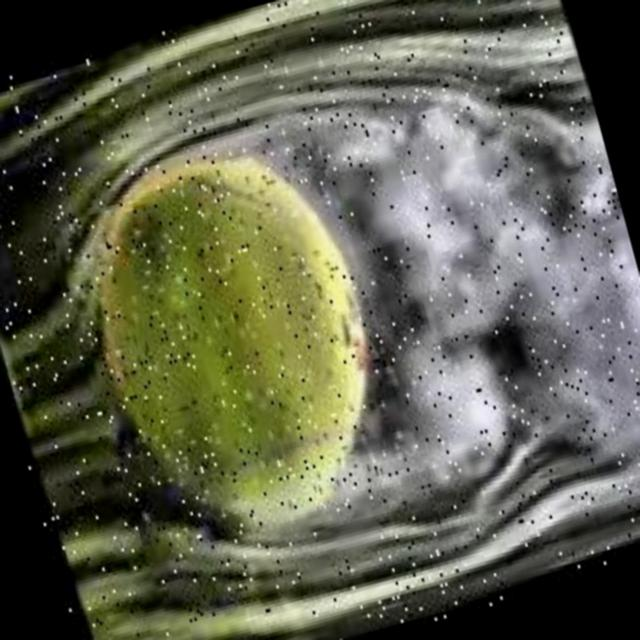tennis-ball: (43, 129, 430, 566)
